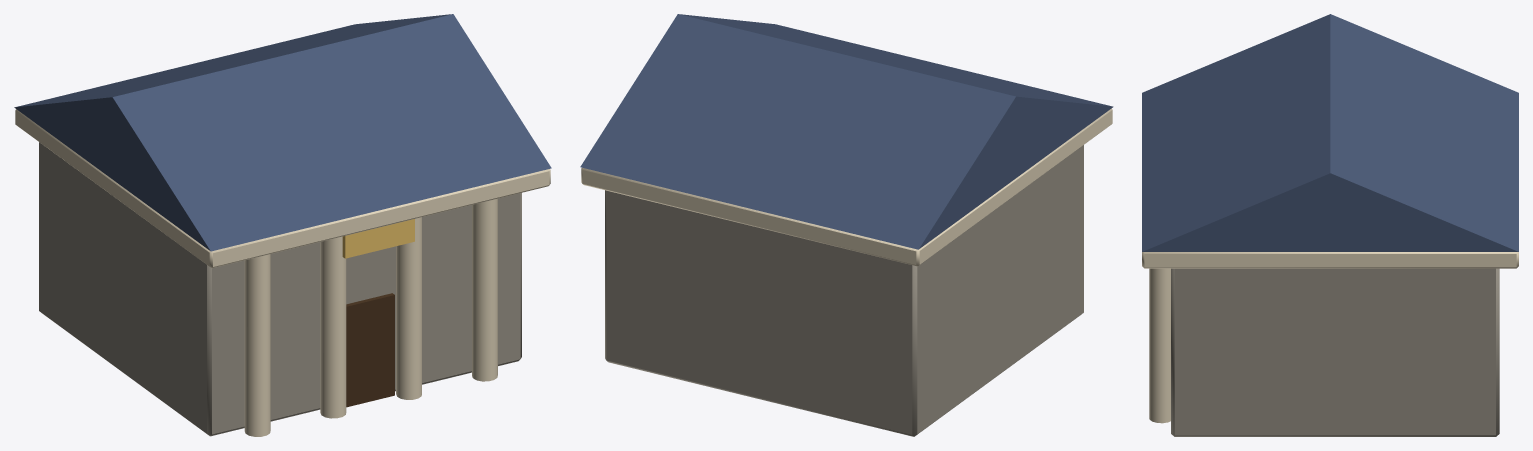
The model's file is archive.glb.
The picture shows the model from 3 angles, left to right: view 1: azimuth 30°, elevation 25°; view 2: azimuth 150°, elevation 25°; view 3: azimuth 270°, elevation 25°; orthographic projection. The views are drawn at different scales.
Visible parts, largest first — view 1: building; view 2: building; view 3: building.
Part boxes in pixels (bbox=[...]): building: bbox=[14, 14, 551, 436]; building: bbox=[580, 14, 1113, 436]; building: bbox=[1142, 14, 1518, 436].
Size of the model in its own units: 3.9 by 3.1 by 3.9.
